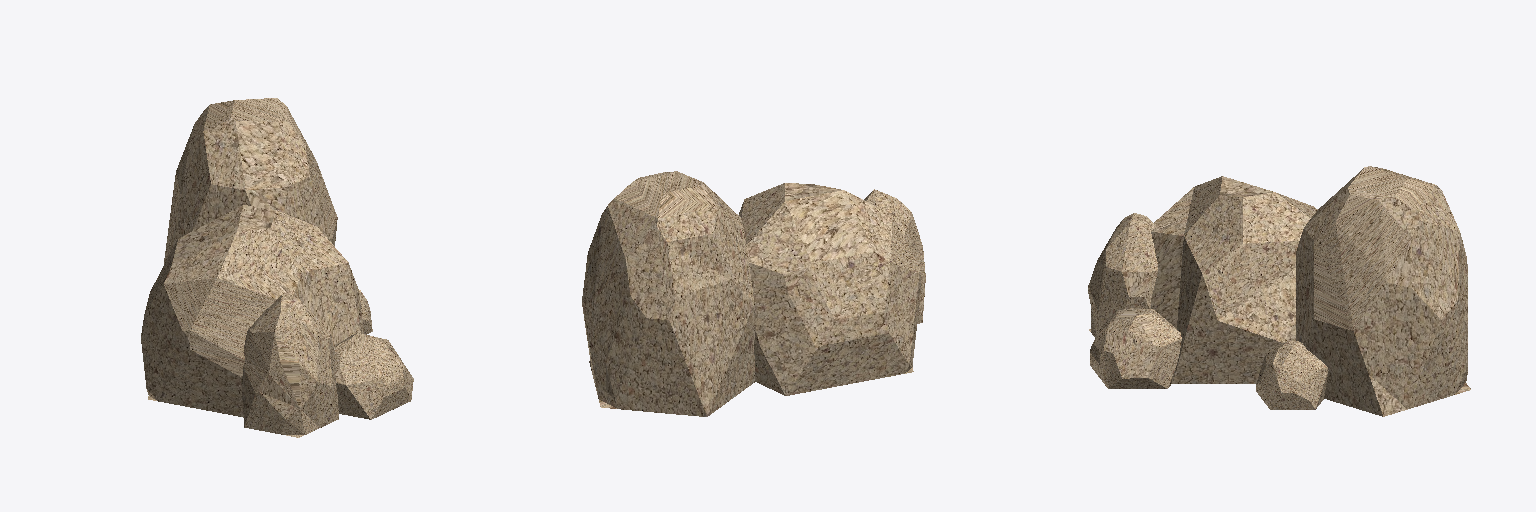
The picture shows the model from 3 angles: view 1: azimuth 30°, elevation 25°; view 2: azimuth 150°, elevation 25°; view 3: azimuth 270°, elevation 25°; orthographic projection.
Parts seen in each view (by area): view 1: Icosphere, Icosphere.003, Icosphere.001, Icosphere.004; view 2: Icosphere.003, Icosphere, Icosphere.001; view 3: Icosphere.003, Icosphere, Icosphere.004, Icosphere.001, Icosphere.002.
Part boxes in pixels (x1,y1,x2,y2): Icosphere: (141,205,363,417); Icosphere.003: (164,98,337,263); Icosphere.001: (241,293,338,437); Icosphere.004: (334,333,413,419); Icosphere.003: (582,171,756,416); Icosphere: (739,183,921,395); Icosphere.001: (864,189,925,323); Icosphere.003: (1296,166,1470,416); Icosphere: (1151,176,1317,383); Icosphere.004: (1090,308,1181,388); Icosphere.001: (1088,213,1157,337); Icosphere.002: (1256,341,1328,409).
Size of the model in its own units: 4.73 by 3.53 by 6.18.
Materials: 5 (1 with a texture image).